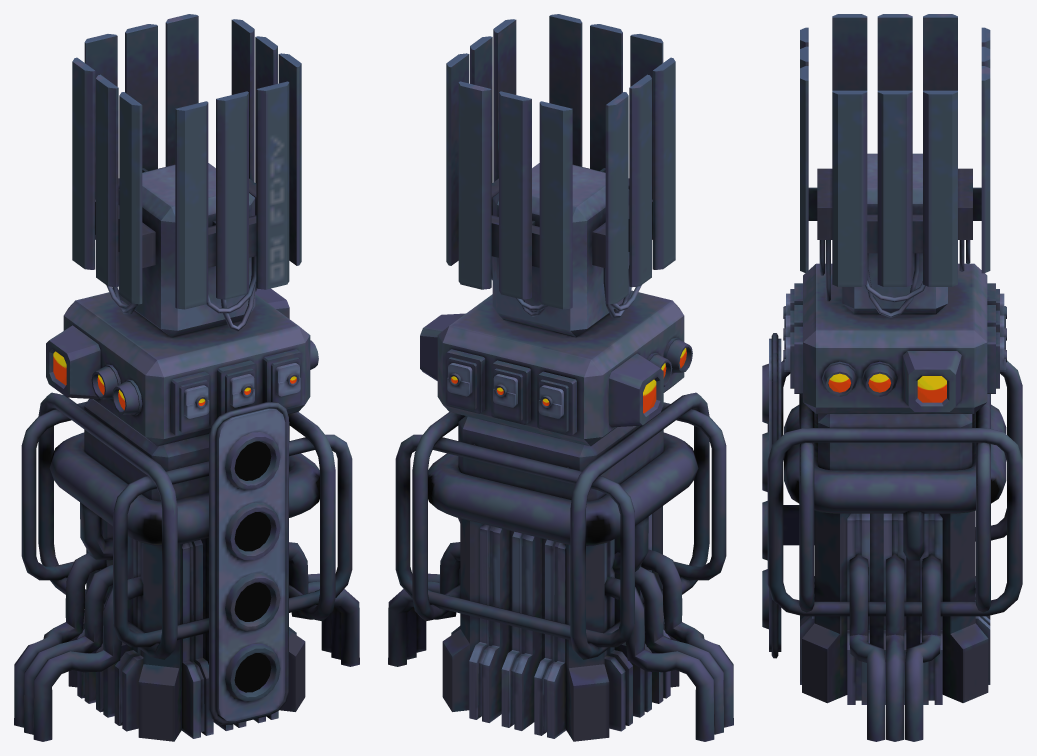
The model's file is finalBoss.glb.
3 renders of one model, left to right at view 1: azimuth 30°, elevation 25°; view 2: azimuth 150°, elevation 25°; view 3: azimuth 270°, elevation 25°, orthographic. The views are drawn at different scales.
Parts seen in each view (by area): view 1: finalBoss; view 2: finalBoss; view 3: finalBoss.
Boxes of the visible parts, left/top/right/bottom form: finalBoss: left=14, top=14, right=359, bottom=741; finalBoss: left=388, top=14, right=733, bottom=741; finalBoss: left=762, top=14, right=1022, bottom=741.
Size of the model in its own units: 2.36 by 4.37 by 1.69.
2 materials, 2 textured.
